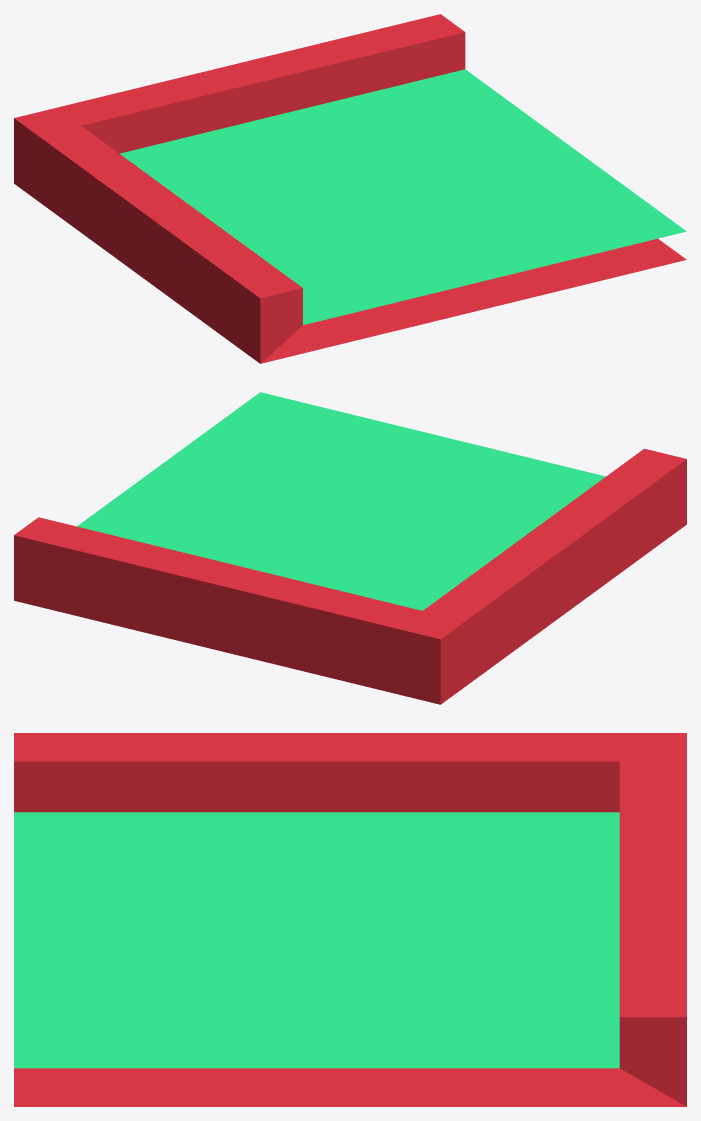
Rendered from corner.fbx.
3 views of the same model, one above another, from view 1: azimuth 30°, elevation 25°; view 2: azimuth 150°, elevation 25°; view 3: azimuth 270°, elevation 25° (orthographic). The views are drawn at different scales.
Parts seen in each view (by area): view 1: corner; view 2: corner; view 3: corner.
Boxes of the visible parts, box(x1,y1,x2,y2) form: corner: box(14, 14, 686, 363); corner: box(14, 392, 686, 704); corner: box(14, 733, 686, 1106).
Size of the model in its own units: 99.99 by 99.99 by 14.67.
